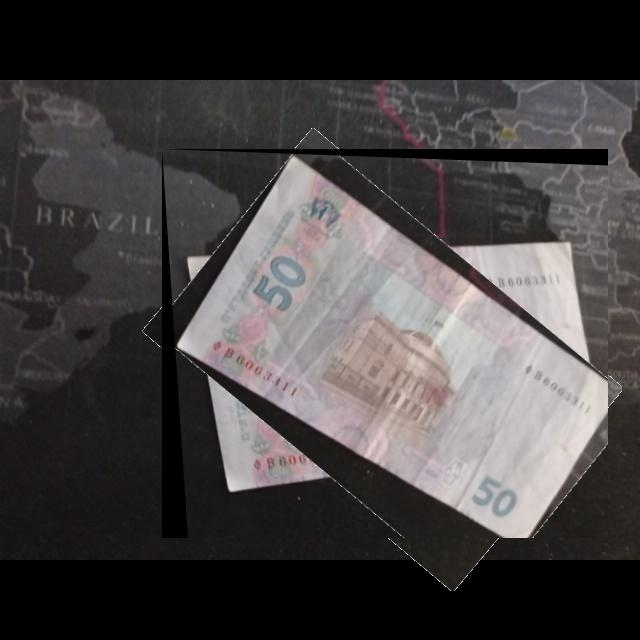50uah: (173, 153, 609, 539)
